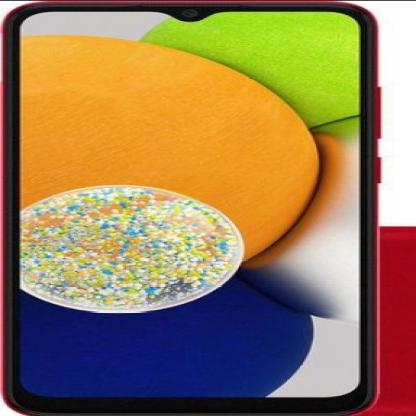SMARTPHONE: (6, 0, 407, 416)
